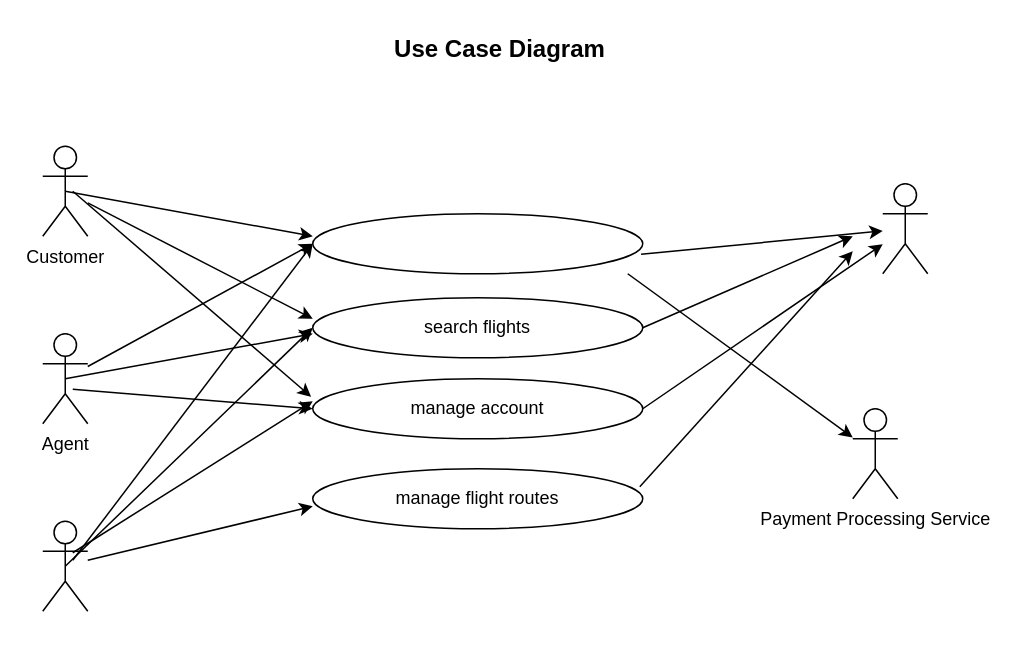
The diagram is 1016 pixels wide and 668 high, and some of its shapes have lost their labels. The shapes that lost their labels are listed below. From the top down, each one's box as (x1, y1, x2, y2) in pixels, then its label:
(311, 212, 643, 274): manage booking
(881, 182, 928, 274): Database System
(41, 520, 88, 611): Admin
